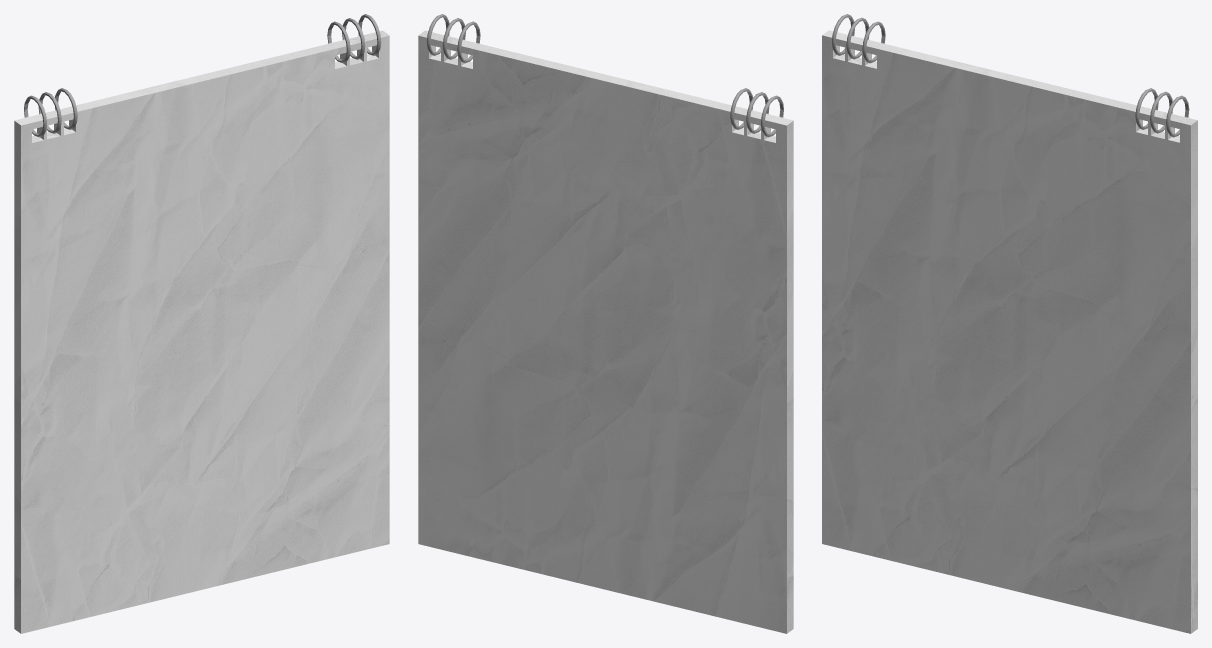
The model's file is notepad.fbx.
The picture shows the model from 3 angles, left to right: view 1: azimuth 30°, elevation 25°; view 2: azimuth 150°, elevation 25°; view 3: azimuth 330°, elevation 25°; orthographic projection.
Visible parts, largest first — view 1: notepad; view 2: notepad; view 3: notepad.
Part boxes in pixels (box(x1,y1,x2,y2)): notepad: box(14, 30, 389, 633); notepad: box(418, 30, 793, 633); notepad: box(822, 30, 1197, 633).
Size of the model in its own units: 118 by 162 by 11.92.
